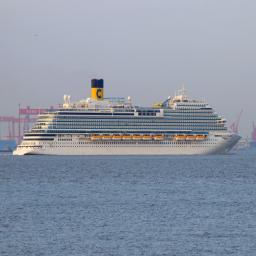cruises: (11, 77, 244, 160)
